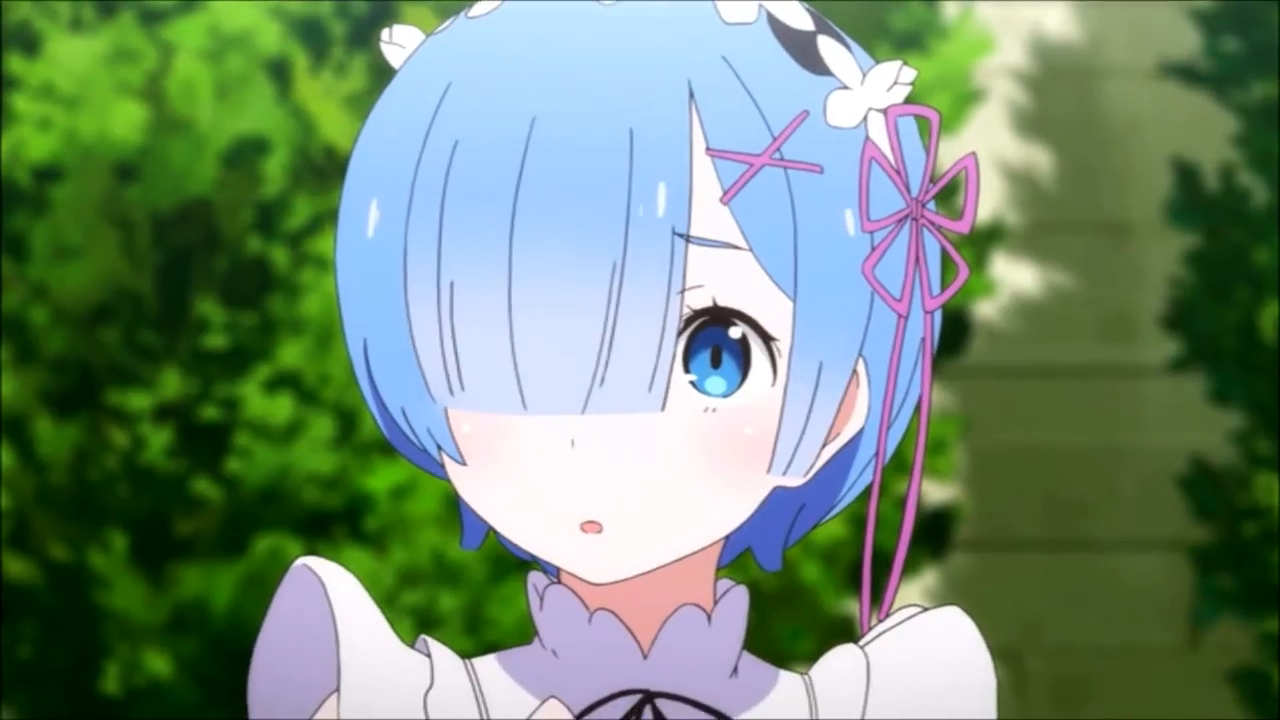REM: (331, 1, 949, 587)
